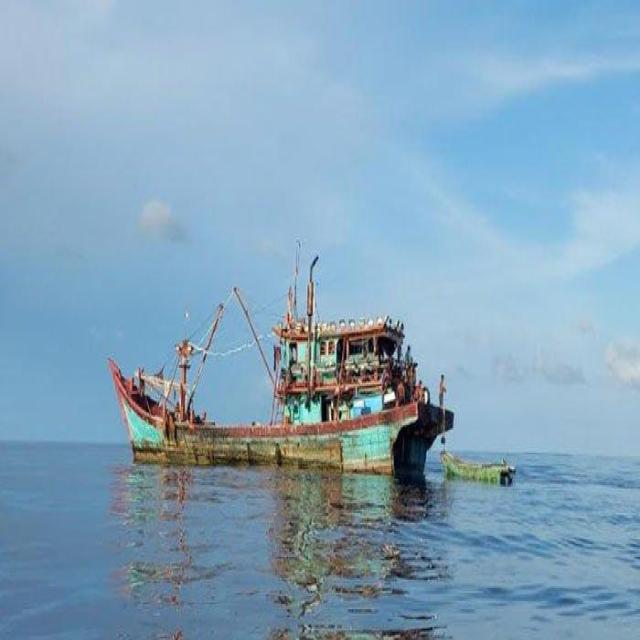Fishing Boat: (75, 133, 576, 607)
